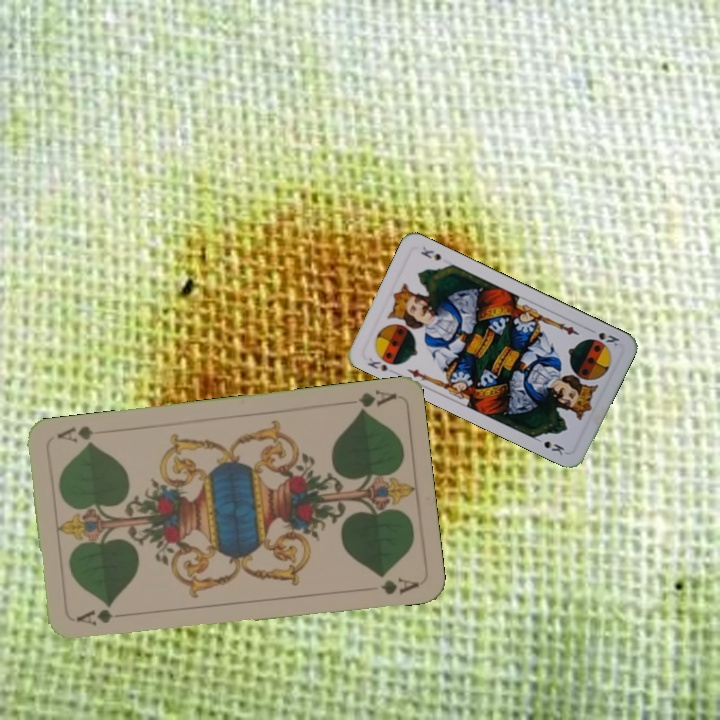GA: (72, 605, 131, 629), (354, 386, 398, 415)
SK: (585, 328, 622, 349), (363, 353, 390, 374)
